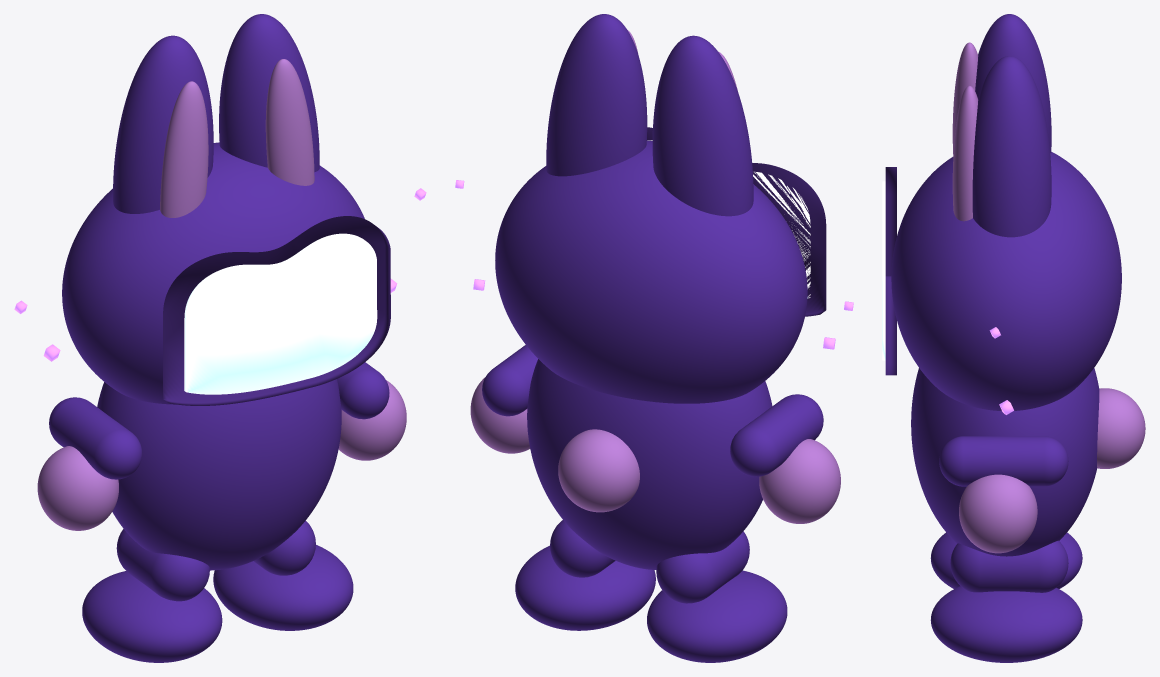
The model's file is hopper.glb.
3 renders of one model, left to right at view 1: azimuth 30°, elevation 25°; view 2: azimuth 150°, elevation 25°; view 3: azimuth 270°, elevation 25°, orthographic. The views are drawn at different scales.
Visible parts, largest first — view 1: body, head, face_screen, face_frame, ear_L, foot_L, ear_R, foot_R, inner_ear_L, hand_L, inner_ear_R, arm_L (+4 smaller); view 2: head, body, ear_L, ear_R, foot_L, foot_R, tail, hand_L, arm_L, face_frame, leg_L, arm_R (+3 smaller); view 3: head, body, ear_R, foot_R, arm_R, hand_R, leg_R, ear_L, tail, inner_ear_R, face_frame, foot_L (+2 smaller).
Part boxes in pixels (left/top/right/bottom): body: left=97, top=379, right=341, bottom=570; head: left=62, top=142, right=364, bottom=404; face_screen: left=184, top=233, right=377, bottom=394; face_frame: left=163, top=216, right=390, bottom=405; ear_L: left=113, top=35, right=213, bottom=213; foot_L: left=82, top=571, right=222, bottom=662; ear_R: left=219, top=14, right=319, bottom=172; foot_R: left=213, top=545, right=353, bottom=630; inner_ear_L: left=160, top=81, right=208, bottom=217; hand_L: left=37, top=446, right=118, bottom=530; inner_ear_R: left=265, top=59, right=314, bottom=185; arm_L: left=49, top=397, right=142, bottom=479; head: left=495, top=140, right=807, bottom=403; body: left=527, top=359, right=772, bottom=569; ear_L: left=652, top=35, right=753, bottom=216; ear_R: left=546, top=14, right=647, bottom=176; foot_L: left=647, top=570, right=787, bottom=662; foot_R: left=515, top=545, right=655, bottom=630; tail: left=558, top=429, right=639, bottom=512; hand_L: left=759, top=439, right=840, bottom=523; arm_L: left=730, top=394, right=823, bottom=476; face_frame: left=647, top=127, right=826, bottom=316; leg_L: left=656, top=531, right=749, bottom=603; arm_R: left=482, top=345, right=537, bottom=416; head: left=891, top=152, right=1121, bottom=410; body: left=911, top=368, right=1099, bottom=556; ear_R: left=972, top=56, right=1051, bottom=237; foot_R: left=930, top=586, right=1082, bottom=662; arm_R: left=939, top=436, right=1068, bottom=486; hand_R: left=959, top=474, right=1037, bottom=553; leg_R: left=950, top=540, right=1068, bottom=592; ear_L: left=975, top=14, right=1051, bottom=152; tail: left=1097, top=388, right=1145, bottom=468; inner_ear_R: left=952, top=85, right=978, bottom=221; face_frame: left=885, top=167, right=896, bottom=375; foot_L: left=930, top=532, right=1082, bottom=588.
Bounding box in the file's own units: 0.7503 × 1.08 × 0.4398.
